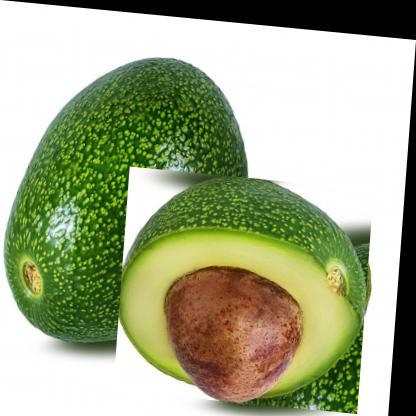avocado: (118, 162, 377, 407)
